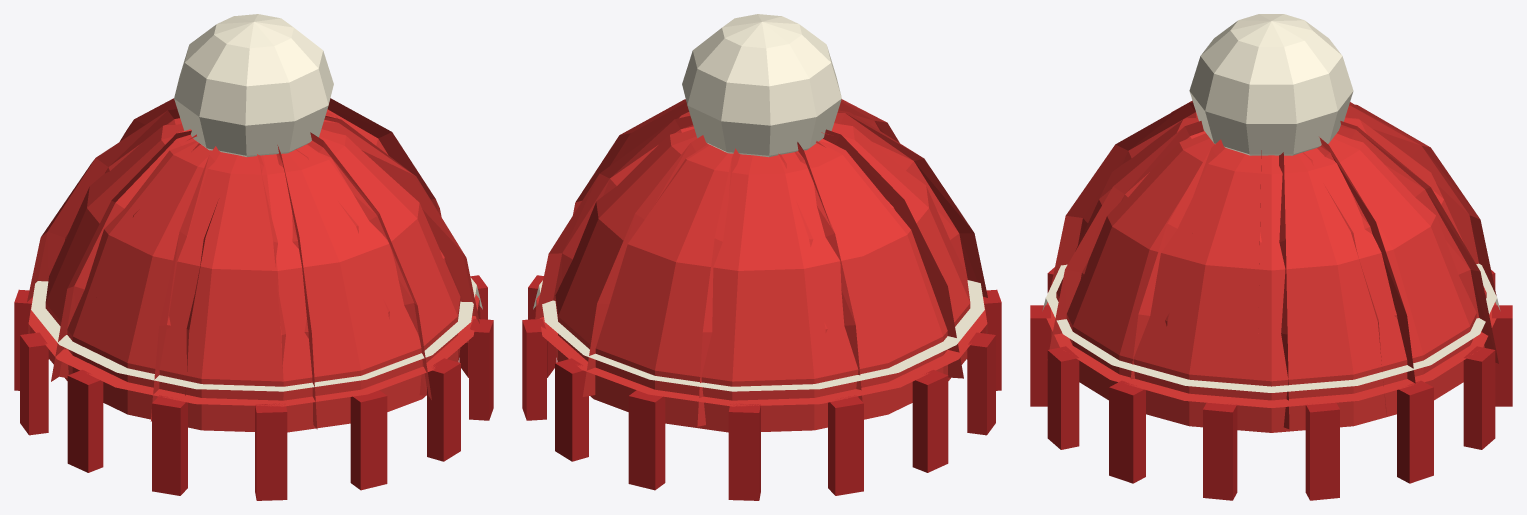
Rendered from f-mossa-vinter-cc0.glb.
3 views of the same model, side by side, from view 1: azimuth 30°, elevation 25°; view 2: azimuth 150°, elevation 25°; view 3: azimuth 270°, elevation 25° (orthographic).
Parts seen in each view (by area): view 1: Mossa_Vinter; view 2: Mossa_Vinter; view 3: Mossa_Vinter.
Part boxes in pixels (<box>): Mossa_Vinter: <box>14,14,493,500</box>; Mossa_Vinter: <box>522,14,1001,500</box>; Mossa_Vinter: <box>1030,14,1512,500</box>.
Size of the model in its own units: 0.3719 by 0.328 by 0.376.
